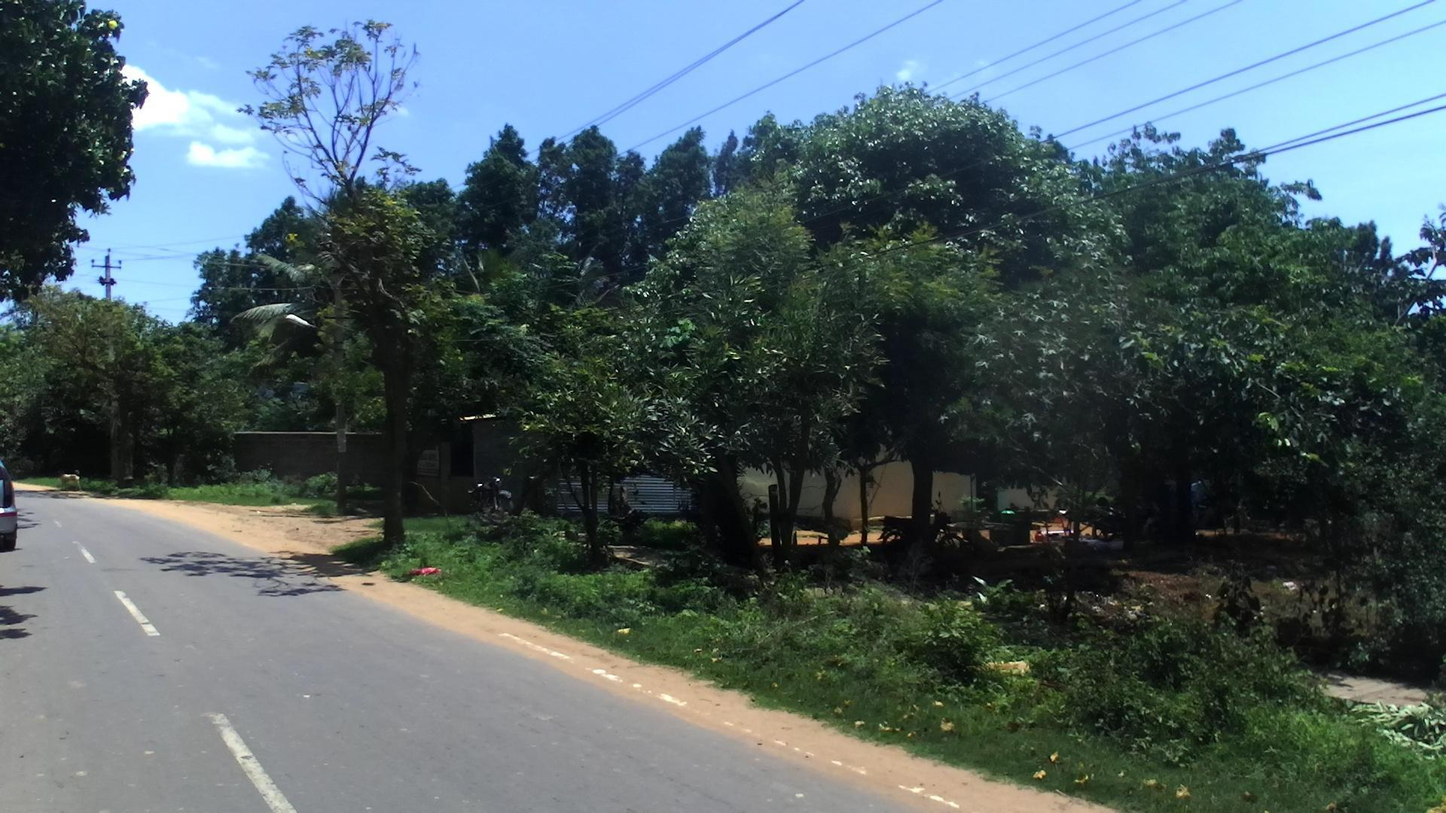streetlight: (285, 314, 346, 355)
